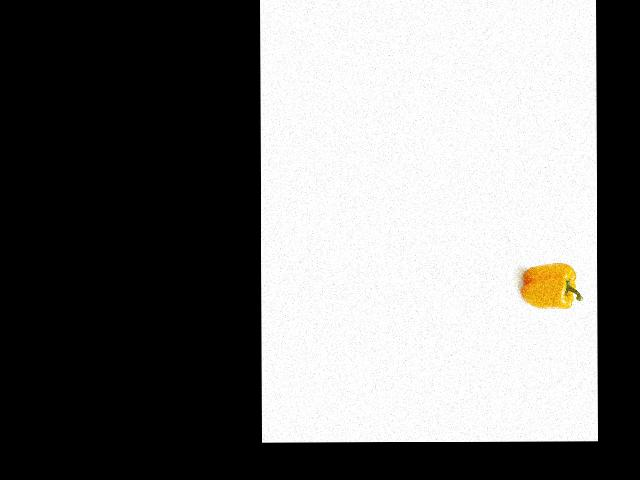bell_pepper: (520, 262, 585, 315)
